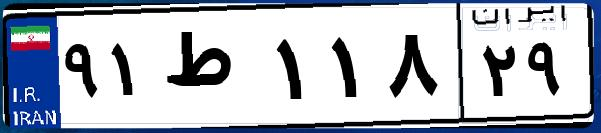1: (270, 28, 330, 110), (330, 28, 385, 110), (110, 28, 158, 98)
2: (475, 38, 525, 113)
8: (385, 28, 445, 110)
9: (57, 26, 110, 100), (525, 38, 570, 115)
ط: (158, 20, 270, 120)
